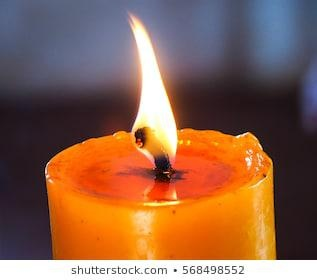fire: (127, 10, 179, 157)
